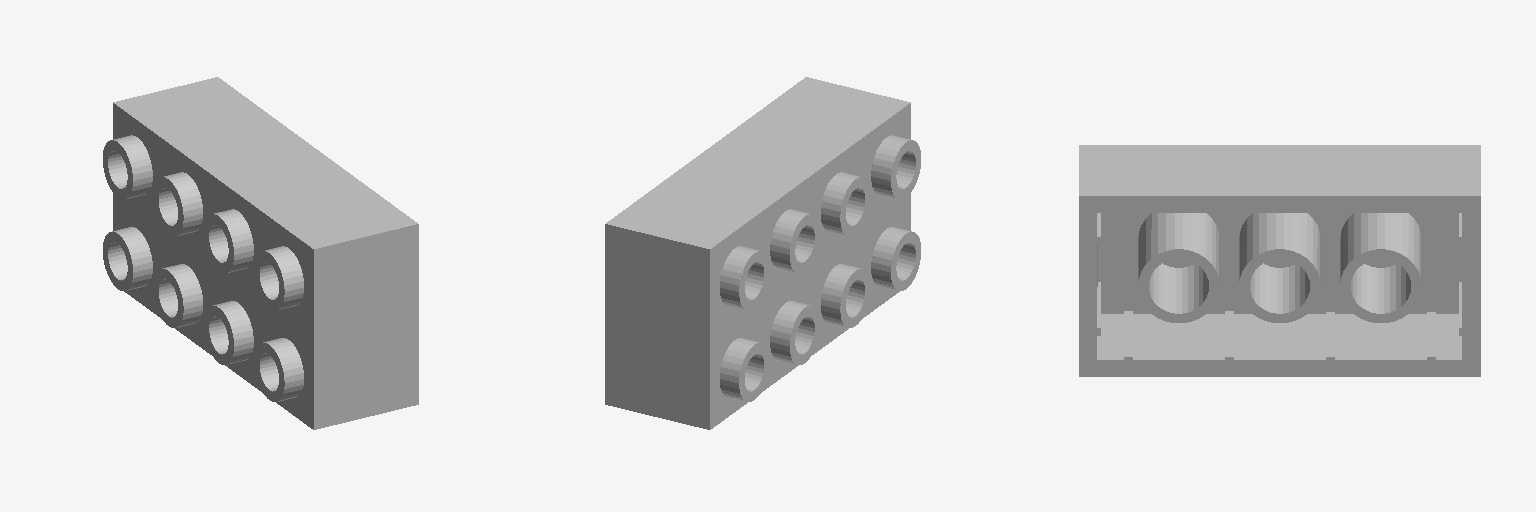
Rendered from duplo2.obj.
3 renders of one model, left to right at view 1: azimuth 30°, elevation 25°; view 2: azimuth 150°, elevation 25°; view 3: azimuth 270°, elevation 25°, orthographic.
Visible parts, largest first — view 1: duplo2; view 2: duplo2; view 3: duplo2.
Part boxes in pixels (x1,y1,x2,y2): duplo2: (103,77,418,429); duplo2: (605,77,920,429); duplo2: (1079,145,1480,376).
Bounding box in the file's own units: 0.0418 × 0.0578 × 0.1164.